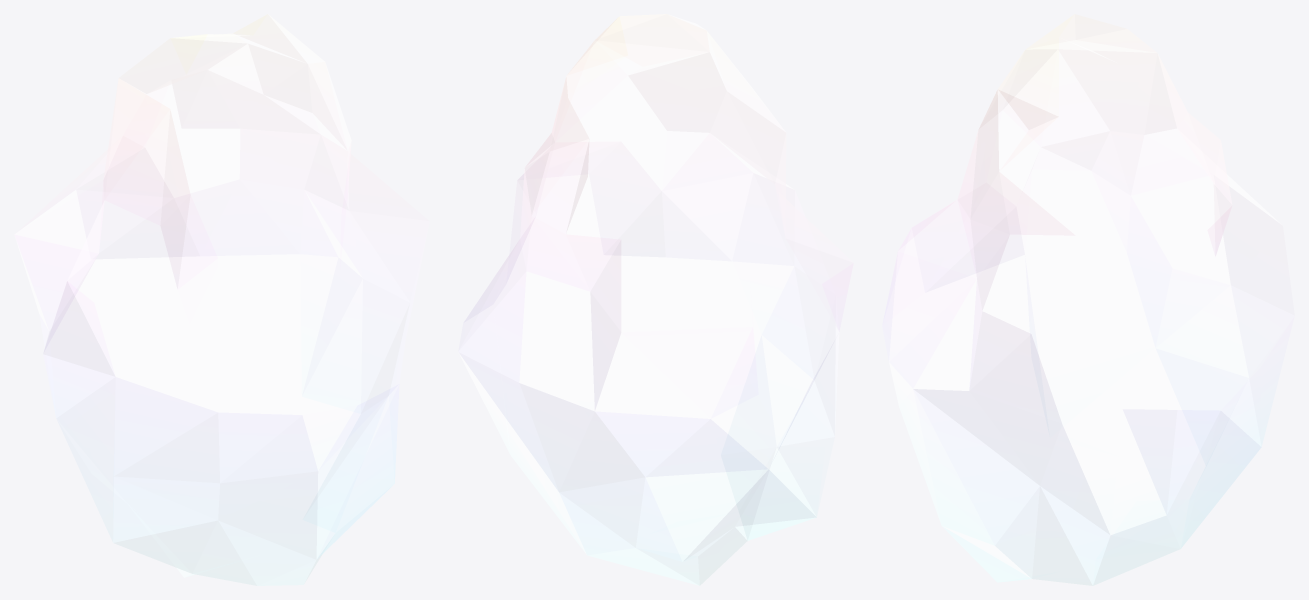
File: kaltuun-iceberg.glb
3 renders of one model, left to right at view 1: azimuth 30°, elevation 25°; view 2: azimuth 150°, elevation 25°; view 3: azimuth 270°, elevation 25°, orthographic.
Visible parts, largest first — view 1: Iceberg; view 2: Iceberg; view 3: Iceberg.
Boxes of the visible parts, bbox=[...] form: Iceberg: bbox=[14, 14, 429, 585]; Iceberg: bbox=[458, 14, 853, 585]; Iceberg: bbox=[882, 14, 1294, 585].
Size of the model in its own units: 2.24 by 3.46 by 2.35.
